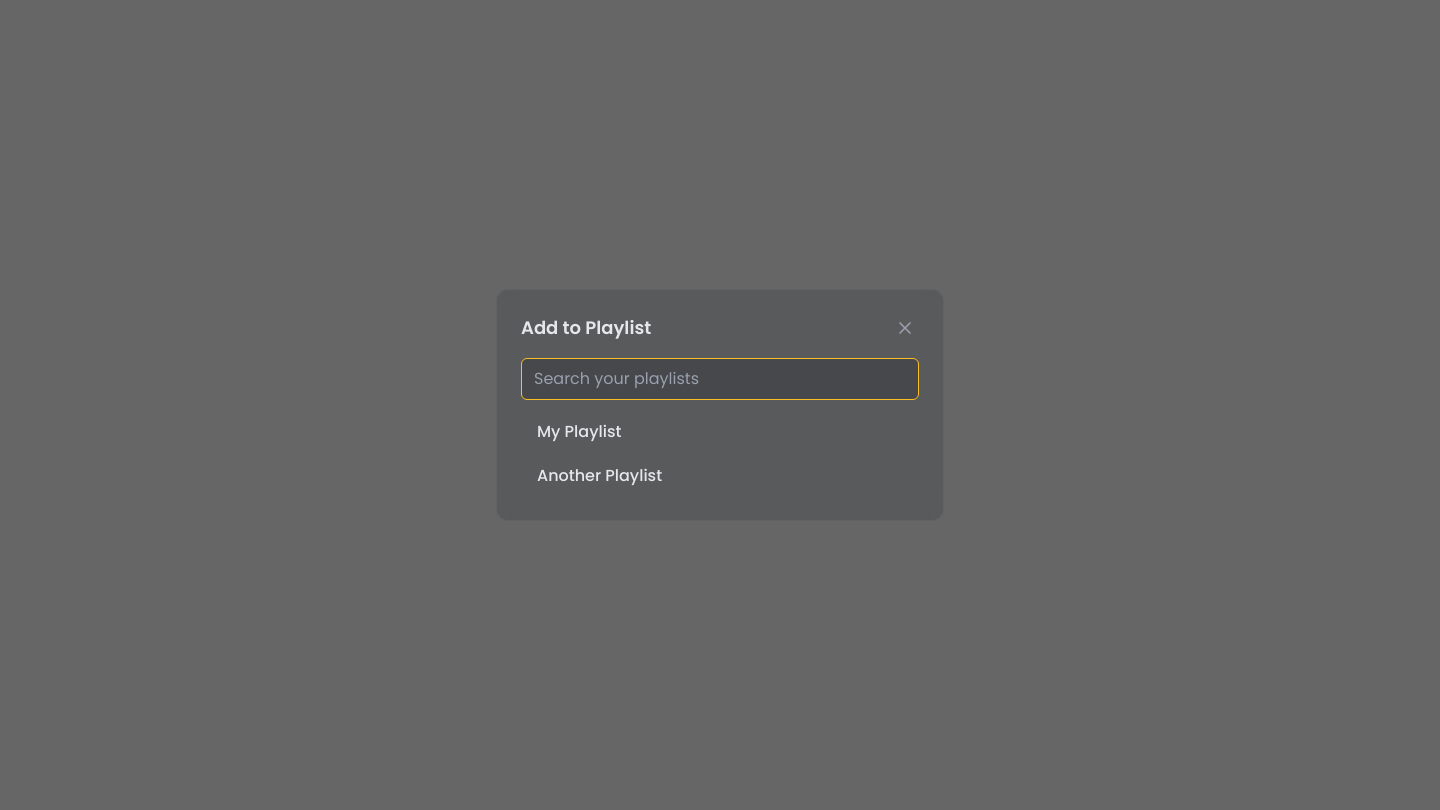
AddToPlaylistModal › error handling › shows error message when adding fails
Click the button "My Playlist": (579, 432) x1=521 y1=412 x2=919 y2=452
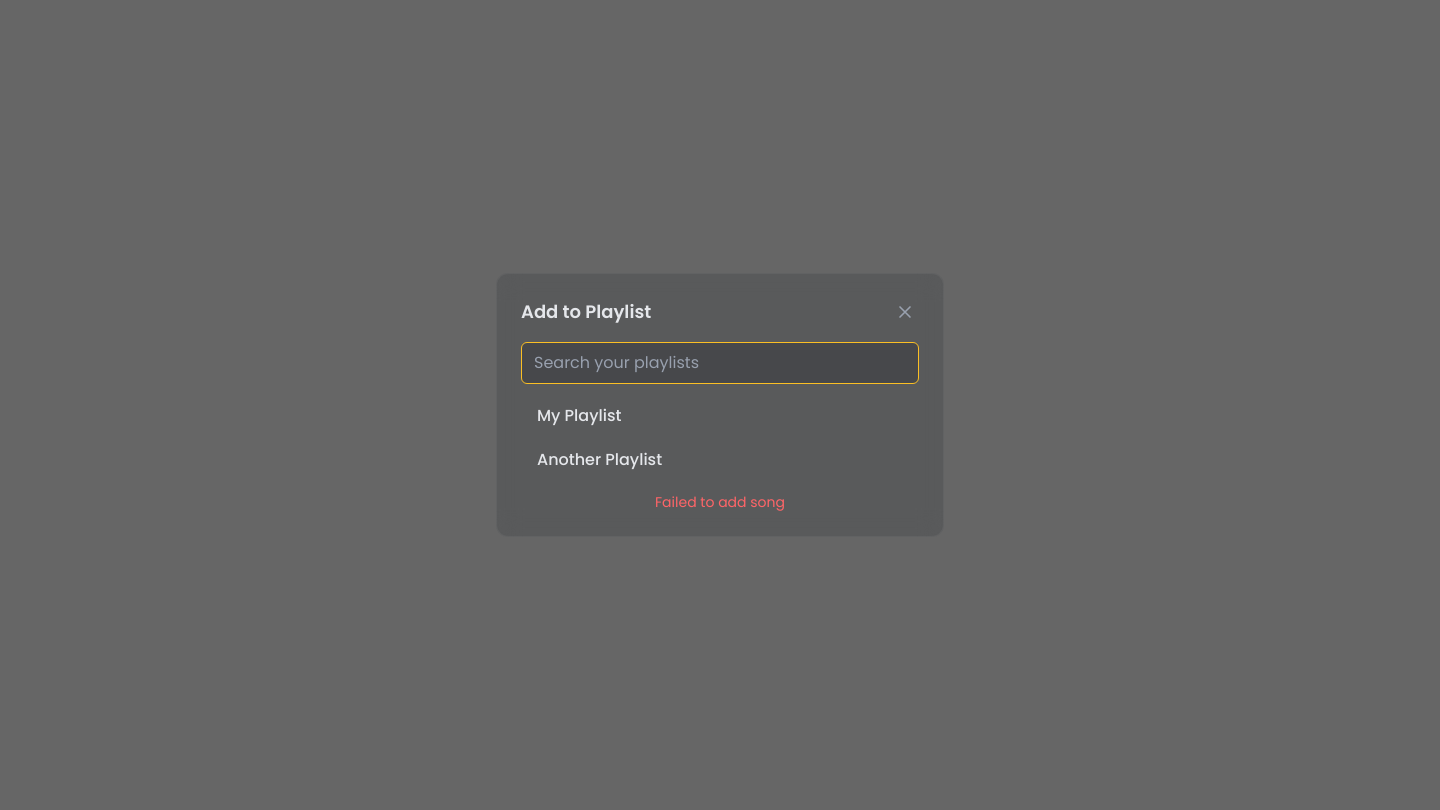
Expected: the text "Failed to add song" is shown, x1=655 y1=492 x2=785 y2=512
